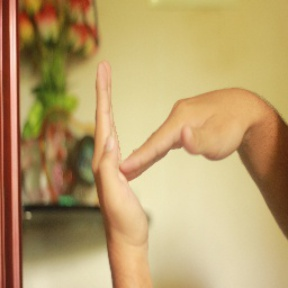Z: (77, 52, 256, 250)
